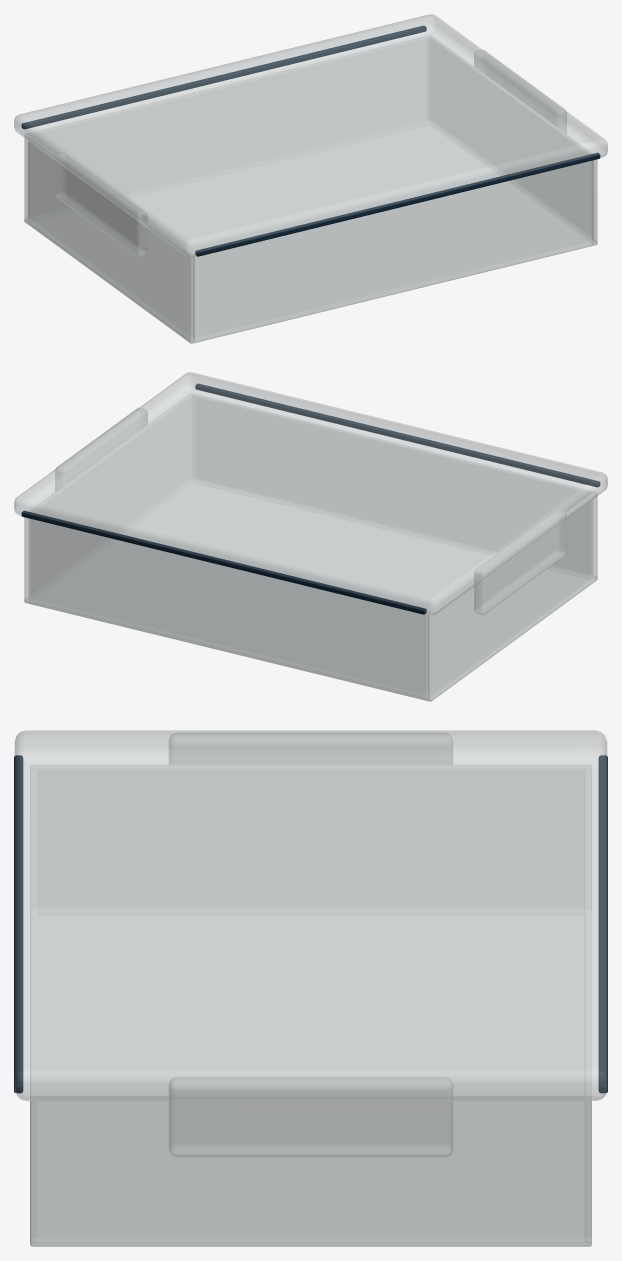
The model's file is pantry_contents__storage_box.glb.
3 renders of one model, top to bottom at view 1: azimuth 30°, elevation 25°; view 2: azimuth 150°, elevation 25°; view 3: azimuth 270°, elevation 25°, orthographic. The views are drawn at different scales.
Parts seen in each view (by area): view 1: storage_box__body, storage_box__lid, storage_box__latch_left, storage_box__latch_right; view 2: storage_box__body, storage_box__lid, storage_box__latch_left, storage_box__latch_right; view 3: storage_box__body, storage_box__lid, storage_box__latch_right, storage_box__latch_left.
Boxes of the visible parts, left/top/right/bottom form: storage_box__body: left=24, top=35, right=597, bottom=343; storage_box__lid: left=14, top=14, right=607, bottom=257; storage_box__latch_left: left=55, top=152, right=147, bottom=257; storage_box__latch_right: left=474, top=50, right=566, bottom=133; storage_box__body: left=24, top=393, right=597, bottom=701; storage_box__lid: left=14, top=372, right=607, bottom=615; storage_box__latch_left: left=474, top=510, right=566, bottom=615; storage_box__latch_right: left=55, top=408, right=147, bottom=491; storage_box__body: left=30, top=765, right=591, bottom=1246; storage_box__lid: left=14, top=730, right=607, bottom=1100; storage_box__latch_right: left=168, top=1077, right=453, bottom=1157; storage_box__latch_left: left=169, top=733, right=452, bottom=764.
Bounding box in the file's own units: 0.219 × 0.052 × 0.1554.
